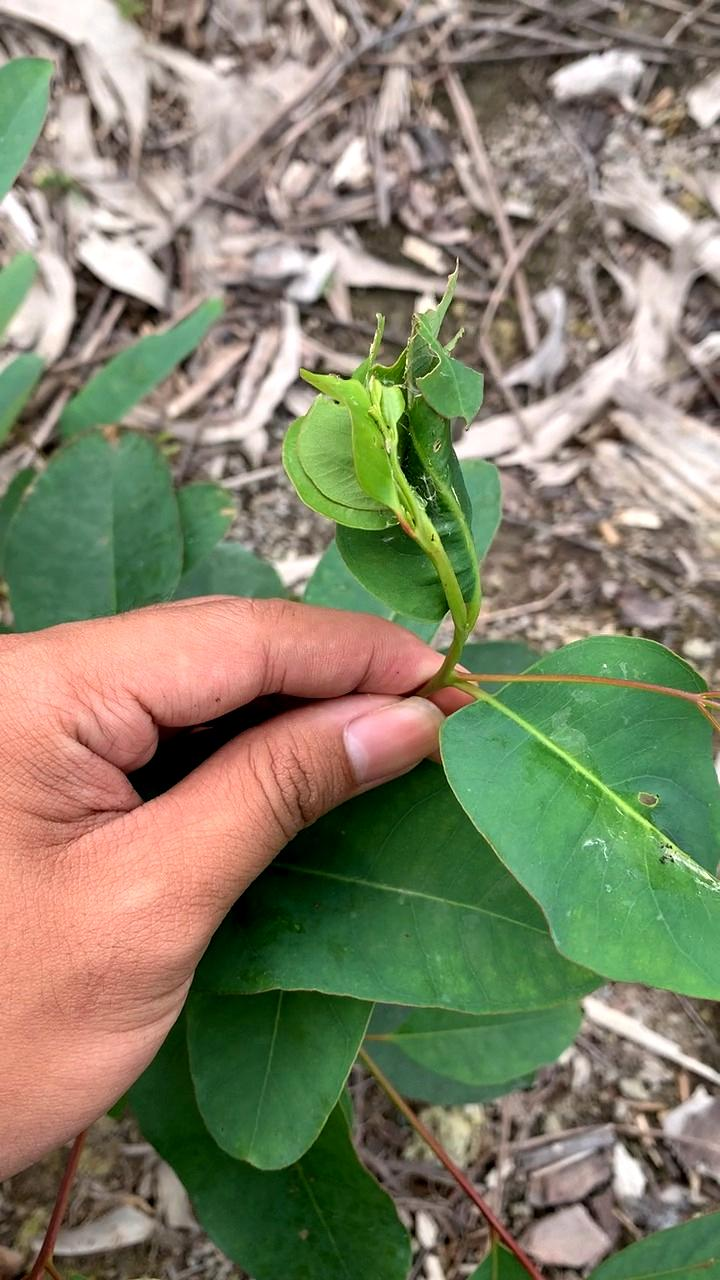Leaf Roller - Leaf: (288, 300, 503, 626)
